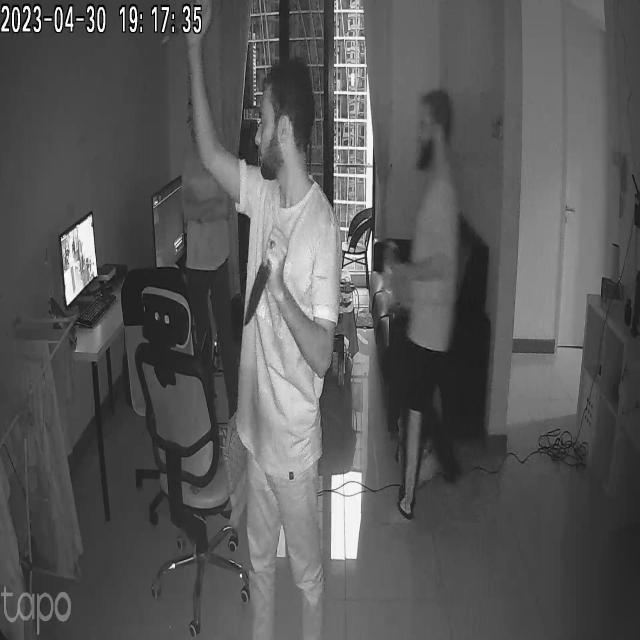Knife: (234, 248, 274, 324)
